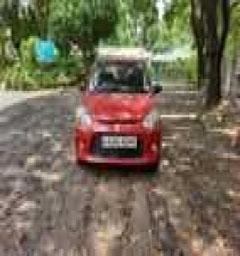car: (69, 36, 186, 193)
